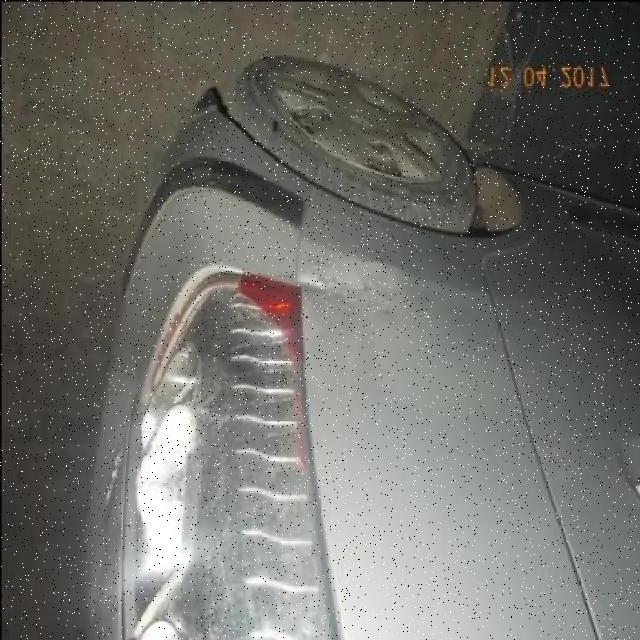damage: (124, 278, 341, 638), (297, 262, 405, 324)
